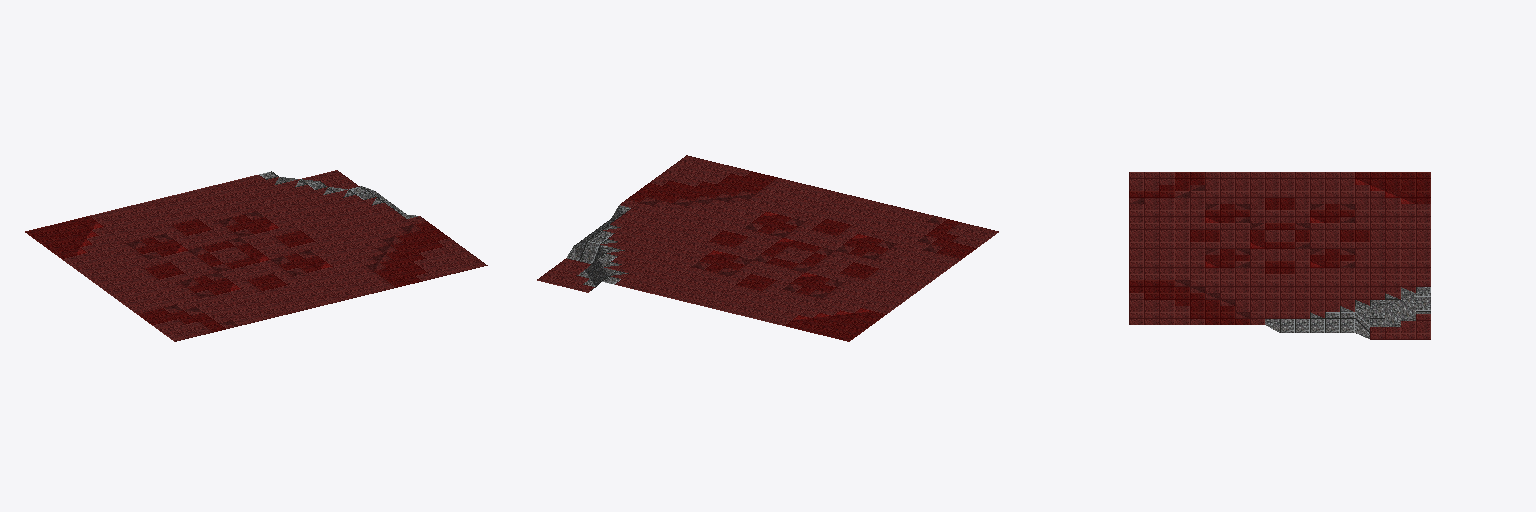
3 renders of one model, left to right at view 1: azimuth 30°, elevation 25°; view 2: azimuth 150°, elevation 25°; view 3: azimuth 270°, elevation 25°, orthographic.
Parts seen in each view (by area): view 1: FloorSide_10; view 2: FloorSide_10; view 3: FloorSide_10.
Part boxes in pixels (x1,y1,x2,y2): FloorSide_10: (25,170,487,341); FloorSide_10: (537,155,998,341); FloorSide_10: (1129,172,1430,339).
Size of the model in its own units: 24 by 1.08 by 20.
11 materials, 11 textured.